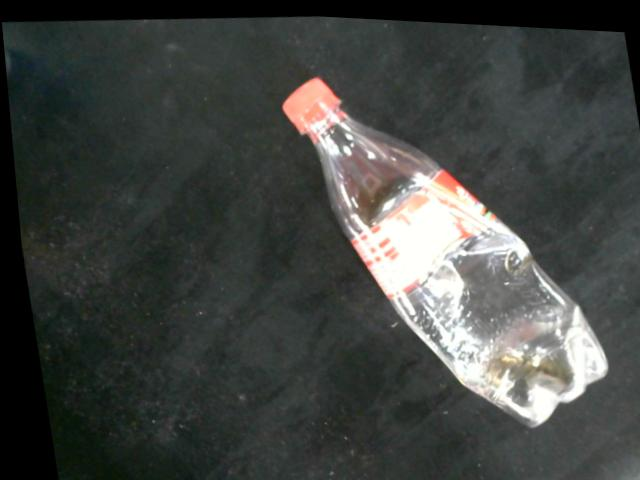bottle: (280, 71, 604, 427)
